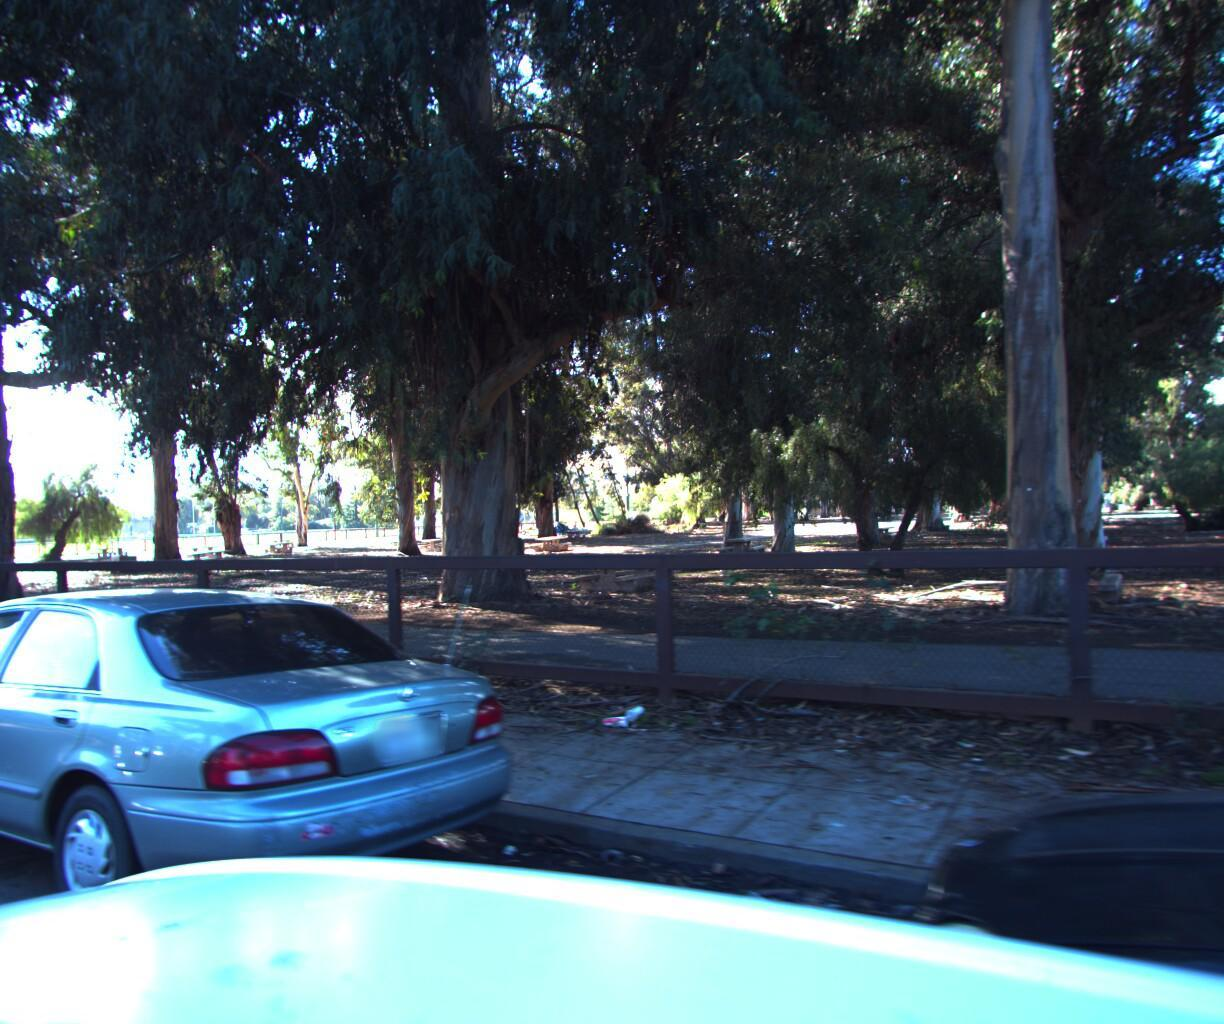car: (0, 569, 572, 1024)
other_vehicle: (0, 294, 41, 817)
